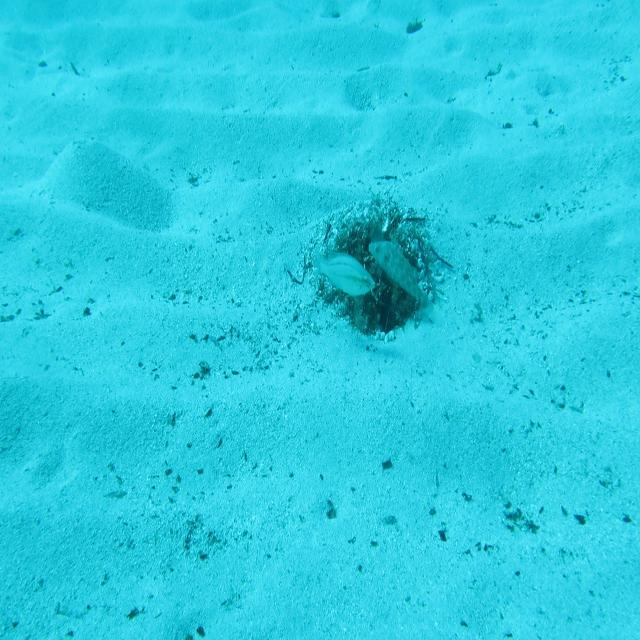DAN_CIRC: (366, 230, 436, 319)
female: (312, 246, 376, 299)
nest: (313, 200, 447, 343)
